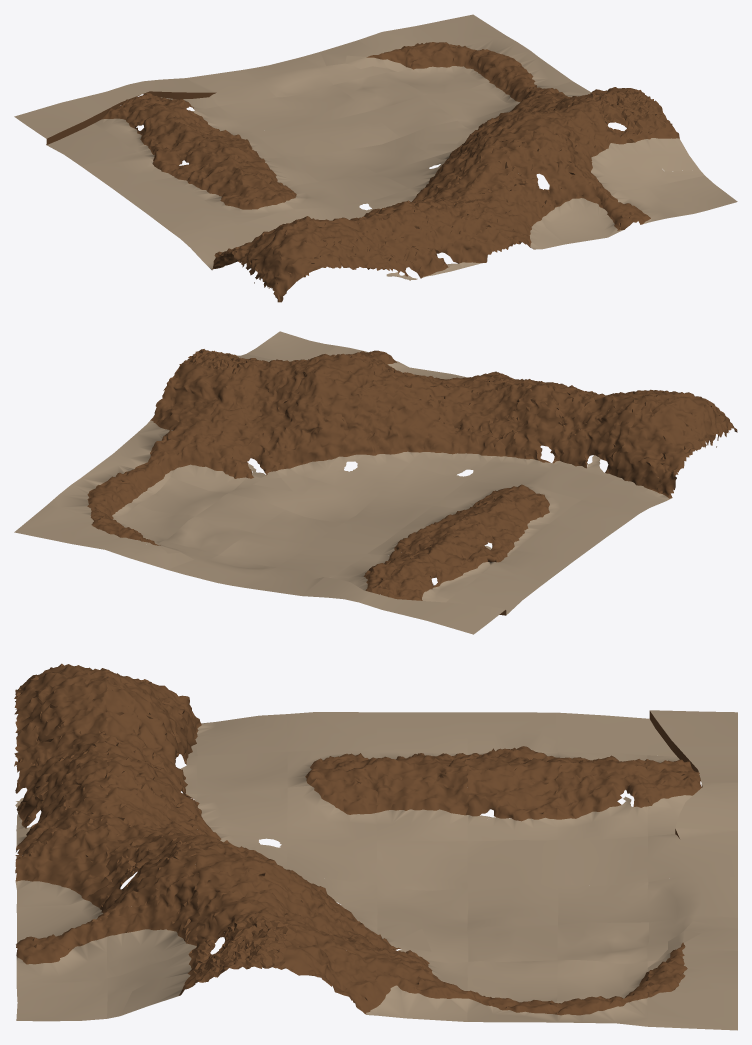
File: Terrain.FBX
3 views of the same model, one above another, from view 1: azimuth 30°, elevation 25°; view 2: azimuth 150°, elevation 25°; view 3: azimuth 270°, elevation 25° (orthographic). The views are drawn at different scales.
Visible parts, largest first — view 1: Section_18_14, Section_15_13, Section_13_13, Section_16_13, Section_20_14, Section_18_13, Section_17_14, Section_14_13, Section_19_14, Section_20_15, Section_17_13, Section_20_19 (+47 smaller); view 2: Section_13_14, Section_18_16, Section_17_15, Section_14_14, Section_15_14, Section_19_16, Section_19_17, Section_20_16, Section_17_16, Section_18_15, Section_16_15, Section_16_14 (+43 smaller); view 3: Section_19_14, Section_15_17, Section_17_13, Section_15_18, Section_14_13, Section_15_19, Section_15_16, Section_14_14, Section_19_13, Section_15_20, Section_19_15, Section_20_16 (+51 smaller).
Boxes of the visible parts, x1,y1,x2,y2 form: Section_18_14: (501,127,589,204); Section_15_13: (364,206,450,280); Section_13_13: (246,221,336,302); Section_16_13: (419,200,508,271); Section_20_14: (614,125,704,187); Section_18_13: (532,182,623,244); Section_17_14: (443,148,532,205); Section_14_13: (304,218,392,276); Section_19_14: (556,126,647,190); Section_20_15: (580,89,672,143); Section_17_13: (477,200,564,249); Section_20_19: (447,36,538,83); Section_13_14: (615,399,706,493); Section_18_16: (261,393,352,480); Section_17_15: (351,375,443,463); Section_14_14: (558,396,646,479); Section_15_14: (501,384,589,464); Section_19_16: (202,374,299,456); Section_19_17: (171,424,261,493); Section_20_16: (147,363,235,426); Section_17_16: (319,420,409,496); Section_18_15: (295,353,388,419); Section_16_15: (410,415,499,479); Section_16_14: (443,379,532,440); Section_19_14: (105,873,200,977); Section_15_17: (376,771,468,841); Section_17_13: (15,826,109,907); Section_15_18: (465,769,559,840); Section_14_13: (14,680,108,772); Section_15_19: (555,771,648,839); Section_15_16: (287,777,380,840); Section_14_14: (105,681,197,794); Section_19_13: (16,915,107,982); Section_15_20: (645,777,737,836); Section_19_15: (195,870,288,946); Section_20_16: (283,924,378,1015).
Size of the model in its own units: 201 by 31.64 by 201.
